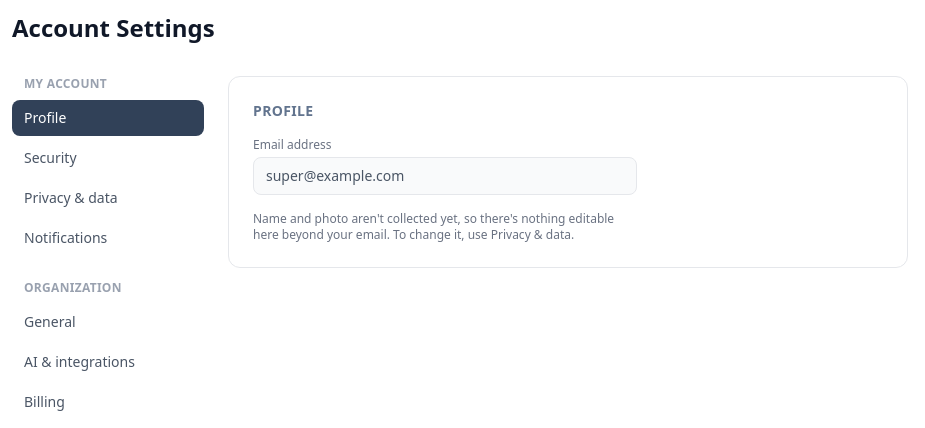
Scenario: SettingsPage › shows the company picker after selecting General for a superuser who isn't impersonating
Click the button "General" at [108, 322], box top-left (12, 304), bottom-right (204, 340)
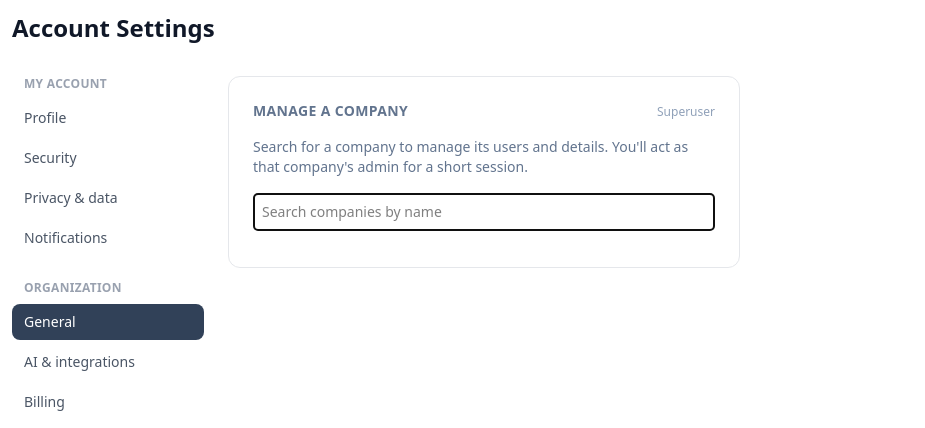
Expected: the heading "Manage a company" is shown, top-left (253, 101), bottom-right (408, 121)
